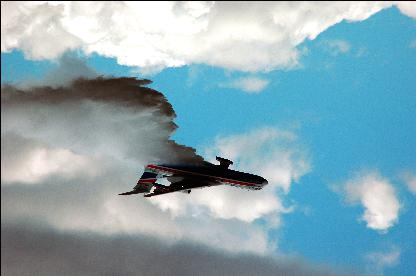B52: (117, 156, 267, 196)
